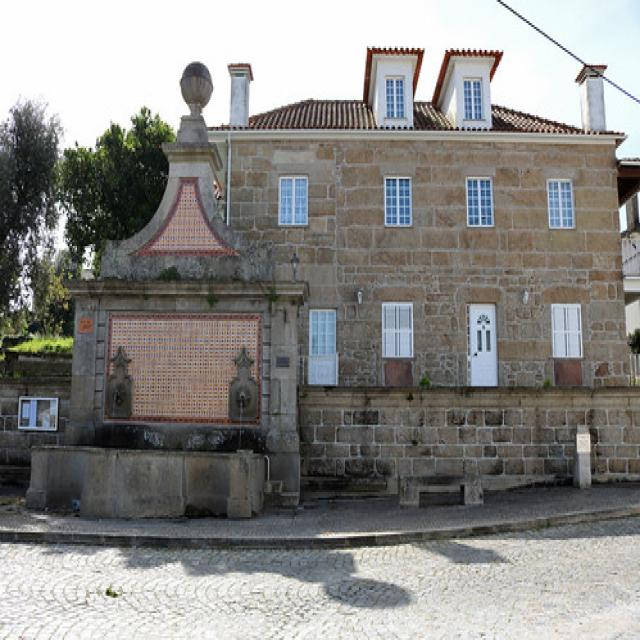Normal_building: (66, 42, 636, 521)
